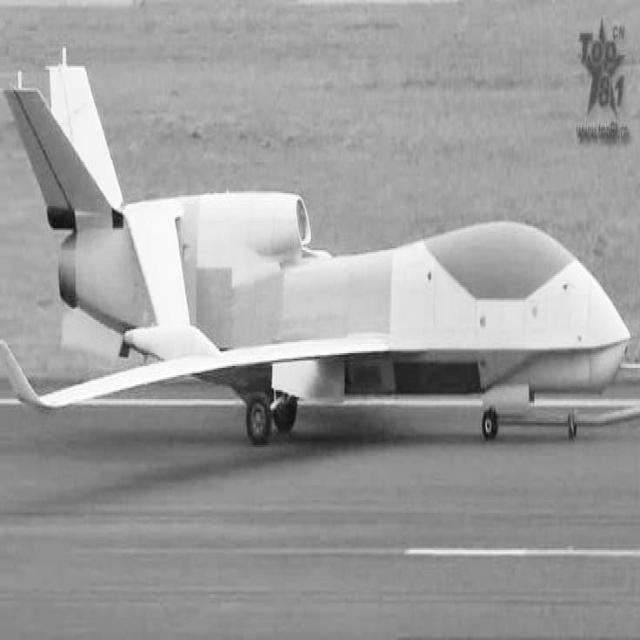iha: (0, 2, 630, 443), (0, 24, 630, 441)
